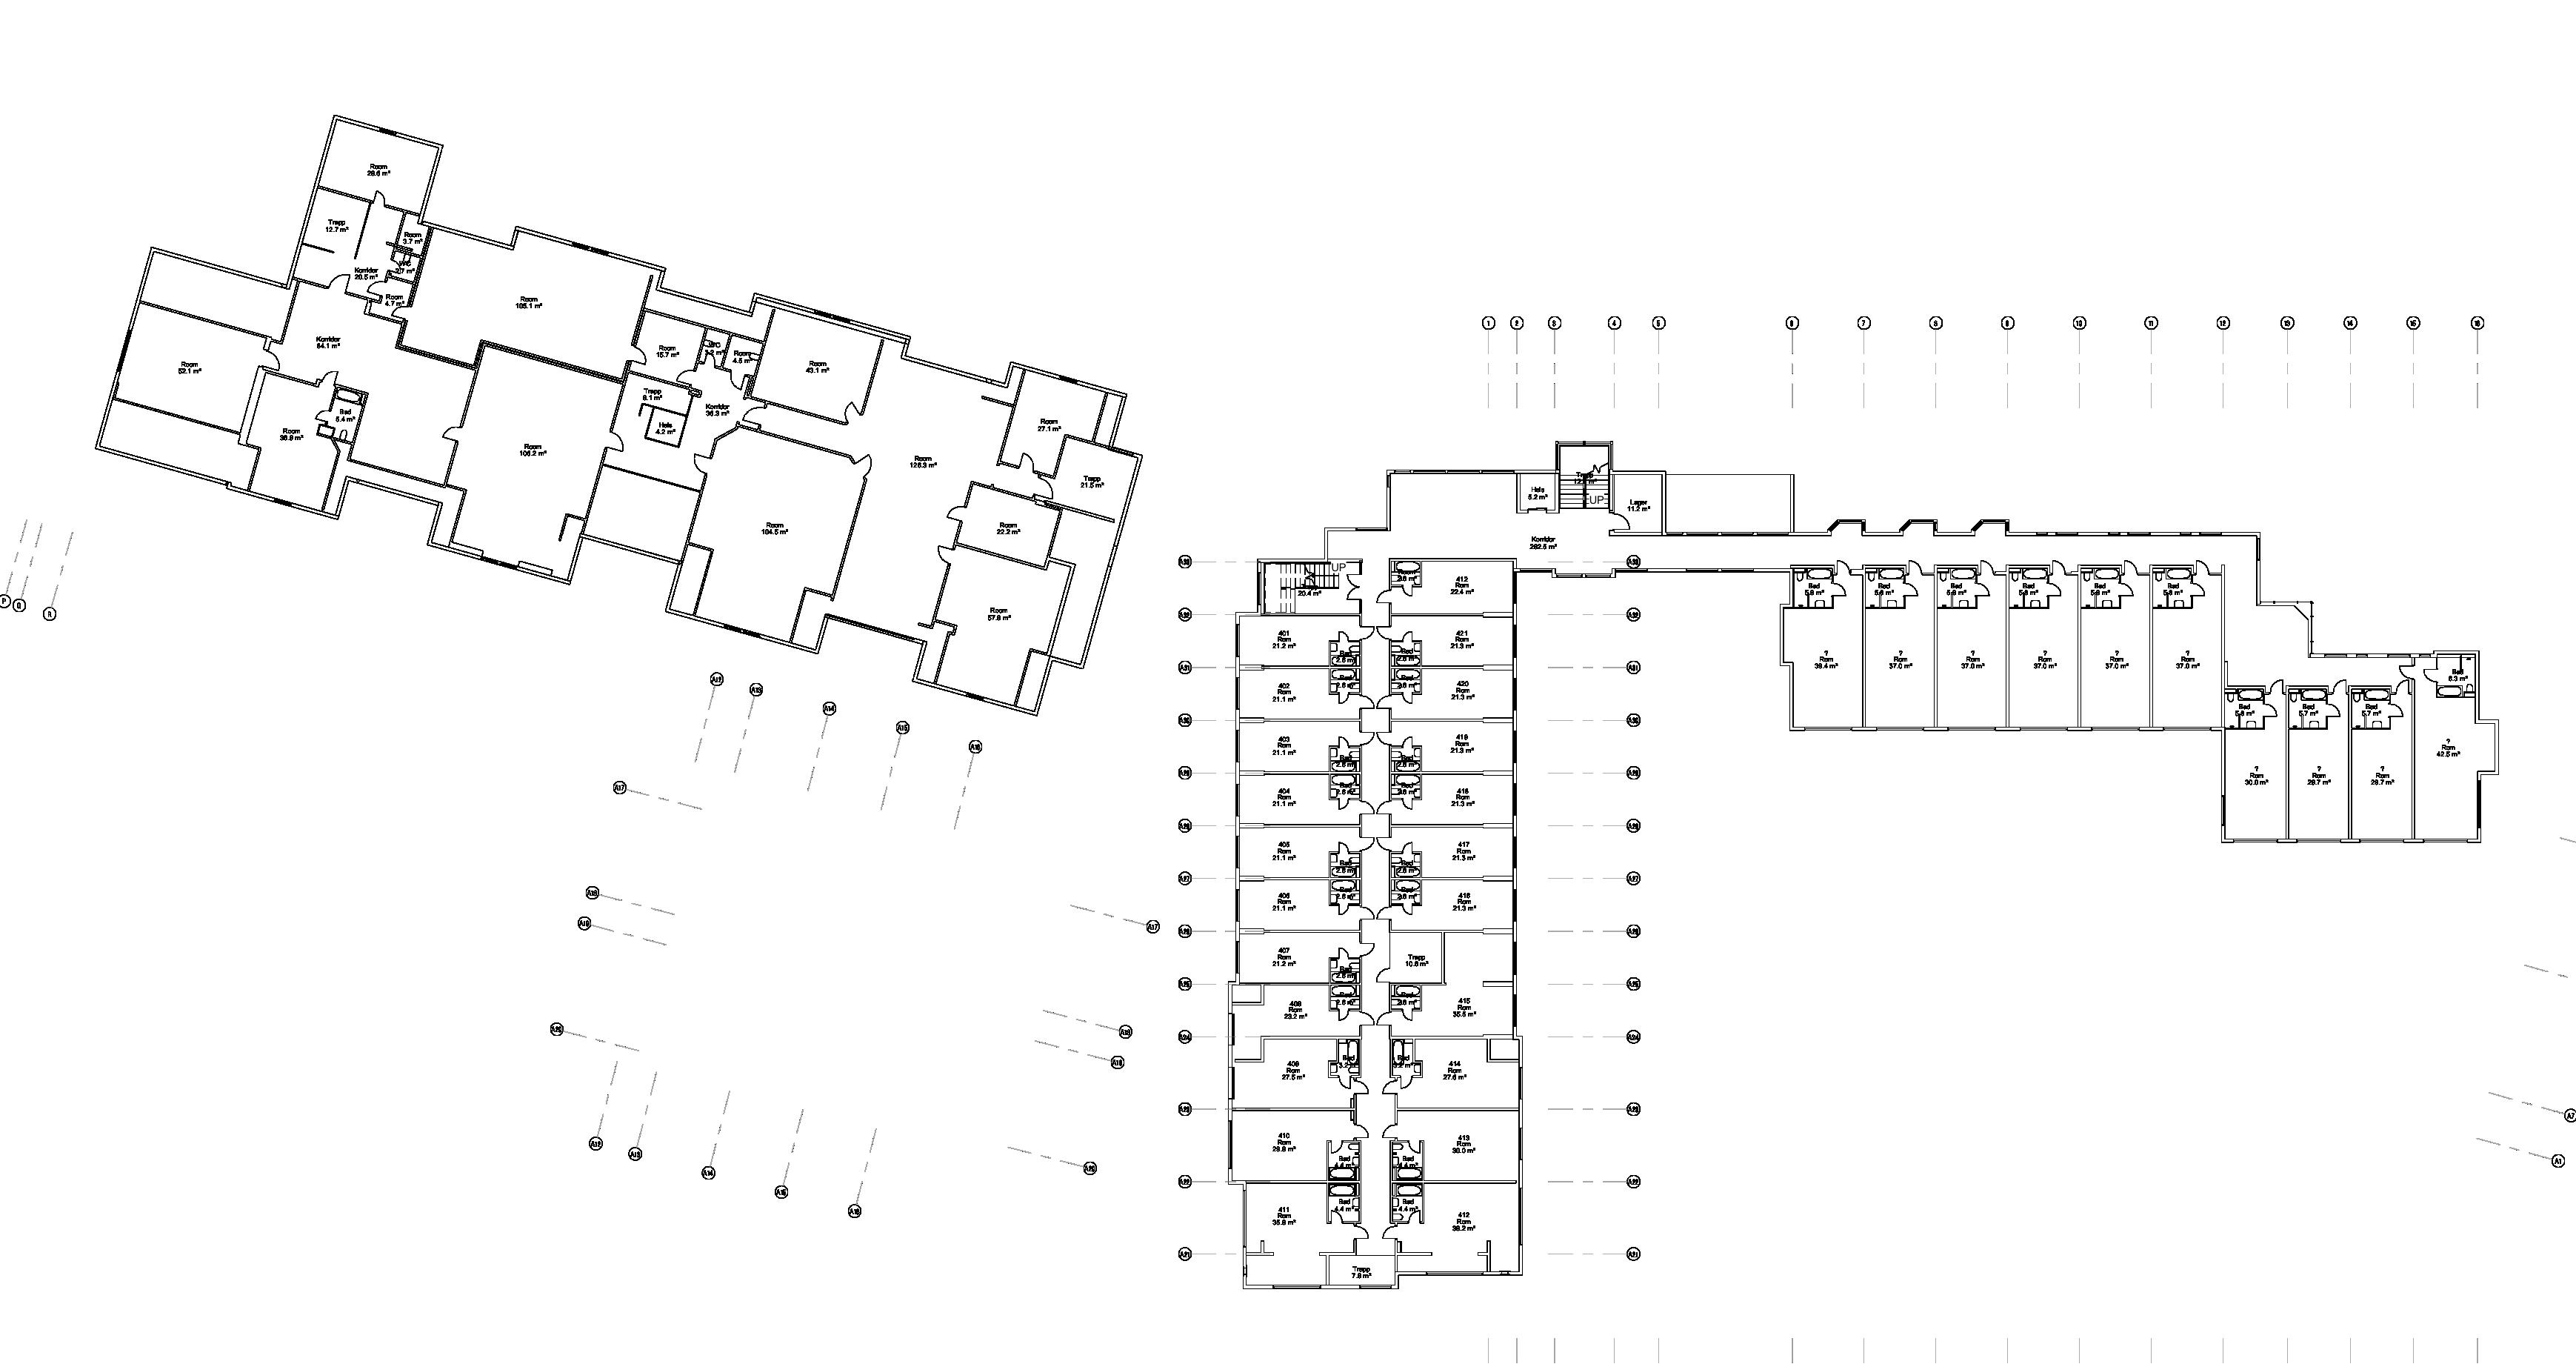room: (2412, 655, 2482, 841), (1244, 1182, 1358, 1287), (2079, 566, 2152, 728), (1791, 566, 1864, 728), (1394, 1182, 1521, 1274), (1935, 564, 2007, 728), (1864, 566, 1935, 730), (2152, 566, 2223, 728), (2007, 566, 2077, 730), (2286, 687, 2351, 839), (2225, 687, 2288, 841), (2351, 685, 2412, 841), (1230, 1108, 1360, 1182), (1392, 1038, 1520, 1108), (1397, 1110, 1520, 1182), (1232, 1038, 1354, 1108), (1237, 929, 1360, 985), (1230, 985, 1360, 1038), (1235, 771, 1360, 825), (1390, 559, 1515, 614), (1390, 984, 1515, 1037), (1237, 878, 1361, 931), (1390, 878, 1515, 931), (1390, 825, 1515, 878), (1237, 825, 1361, 878), (1390, 772, 1515, 825), (1390, 720, 1515, 772), (1390, 667, 1515, 720), (1237, 614, 1361, 667), (1239, 720, 1361, 772), (1390, 614, 1513, 667), (1237, 668, 1361, 720), (1390, 933, 1443, 984)
